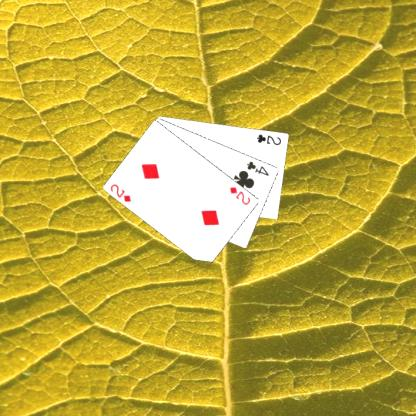2C: (254, 132, 282, 146)
2D: (227, 184, 252, 206), (108, 181, 133, 203)
4C: (244, 159, 270, 177)
